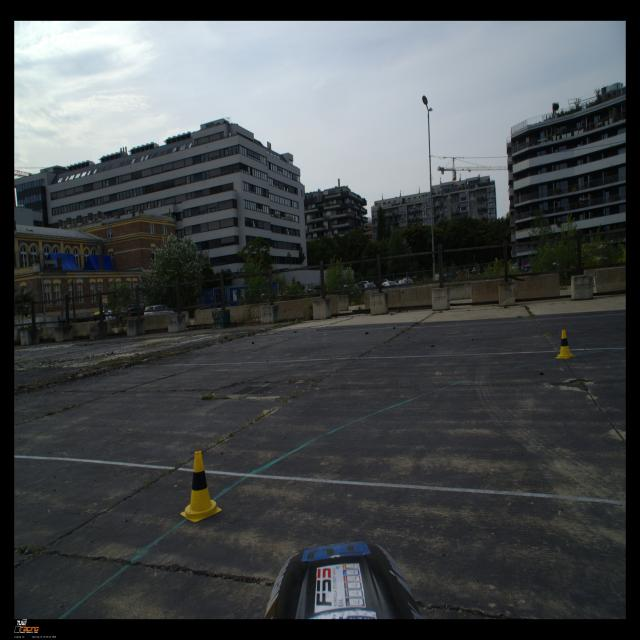yellow_cone: (180, 450, 222, 522), (555, 329, 575, 359)
